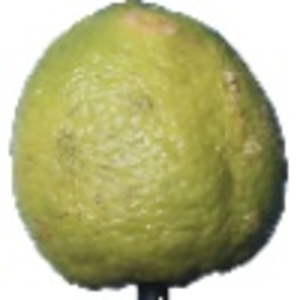limão: (10, 1, 289, 300)
